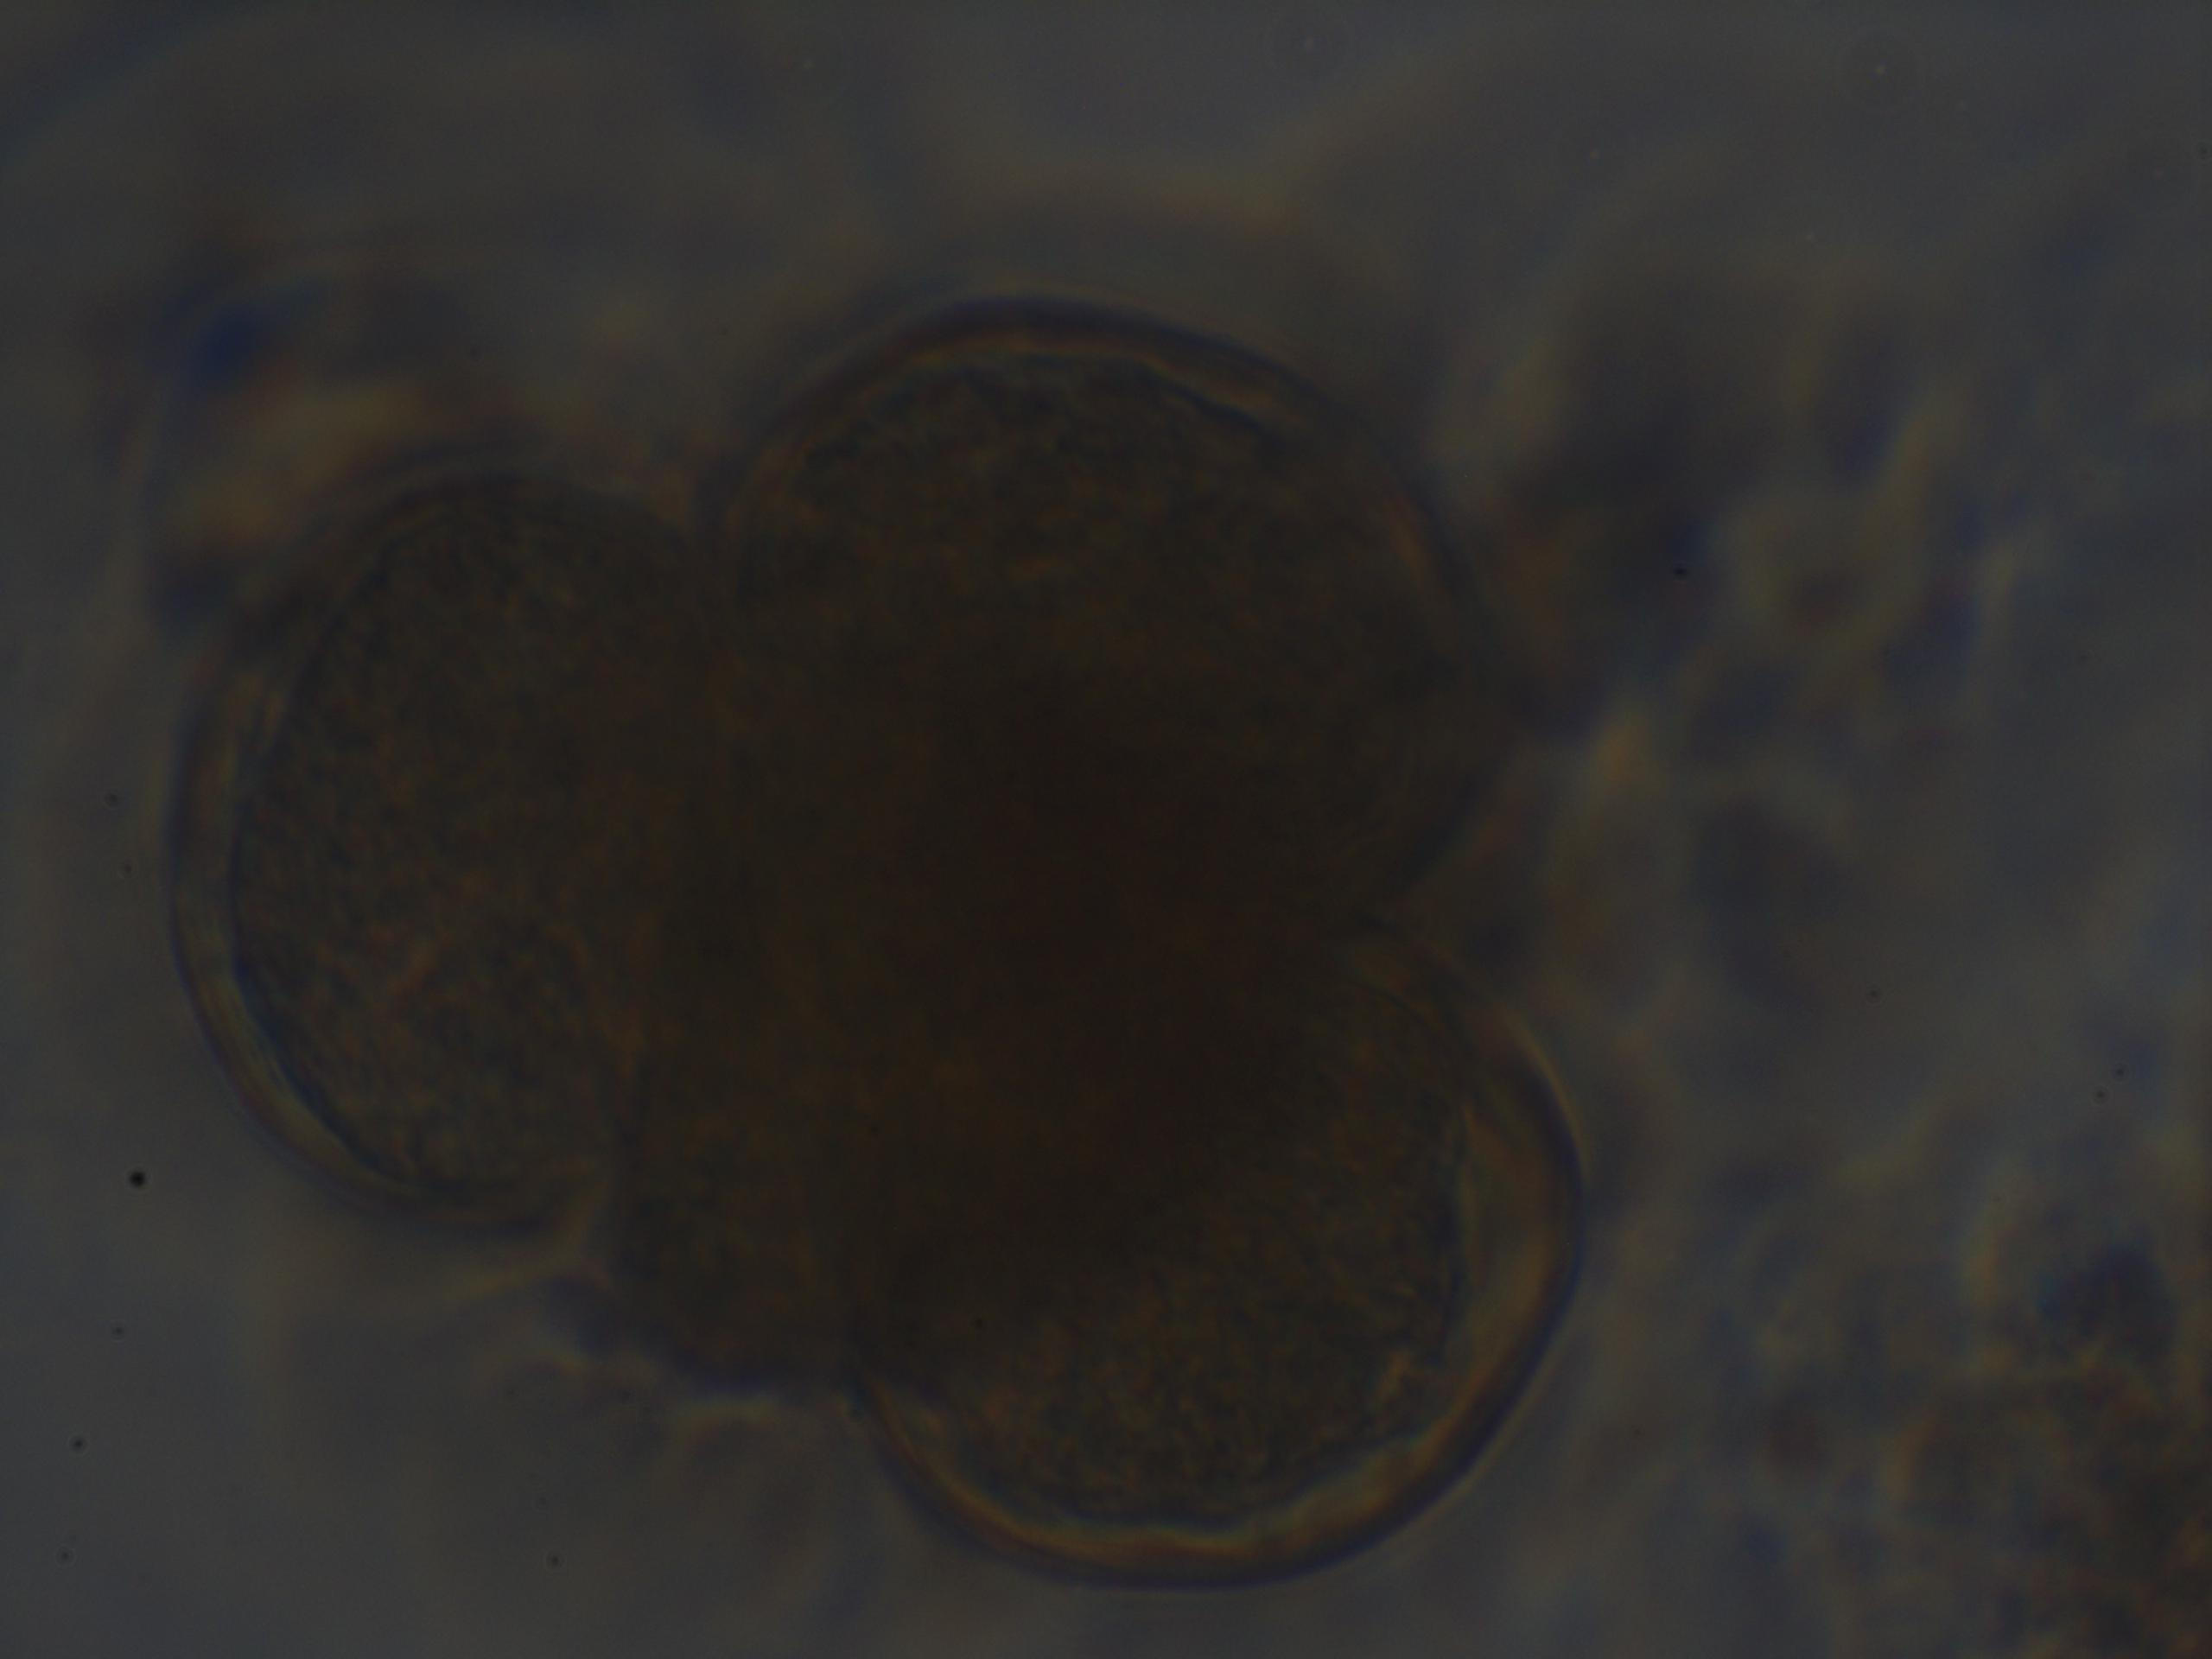protozoa: (711, 274, 1548, 863), (843, 960, 1604, 1605), (136, 408, 688, 1265)
